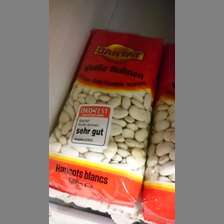beans: (49, 29, 165, 209)
